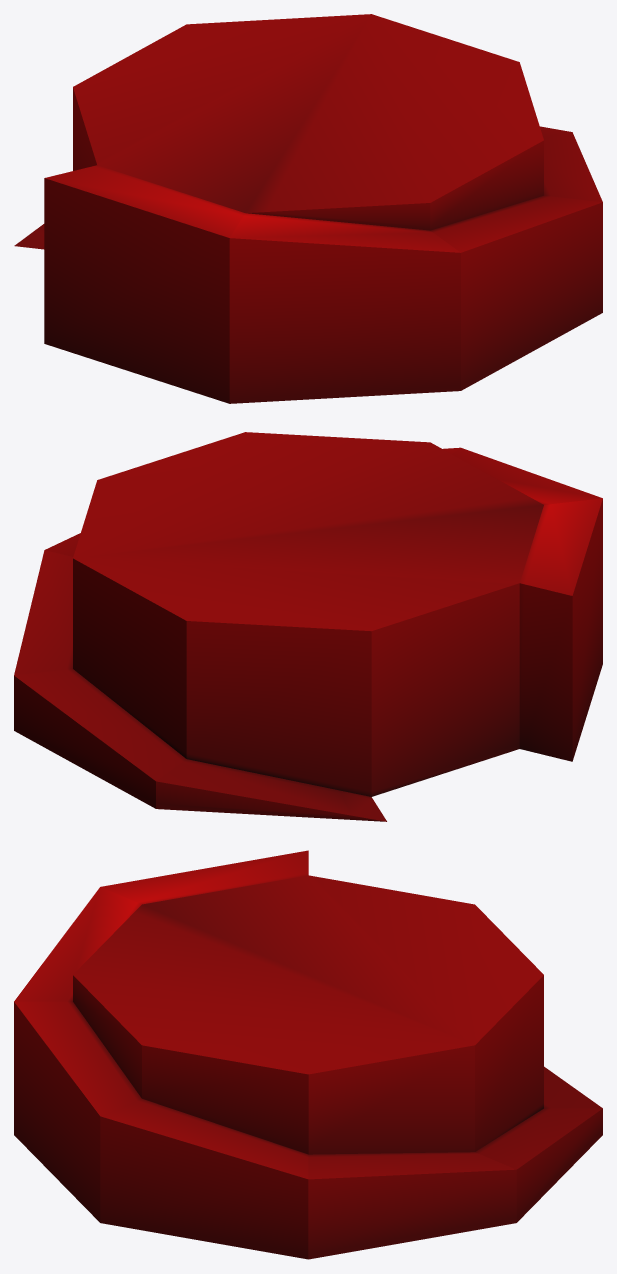
The model's file is dish_pedestal.obj.
The picture shows the model from 3 angles, top to bottom: view 1: azimuth 30°, elevation 25°; view 2: azimuth 150°, elevation 25°; view 3: azimuth 270°, elevation 25°; orthographic projection. The views are drawn at different scales.
Visible parts, largest first — view 1: WayUp, WayUp.001; view 2: WayUp.001, WayUp; view 3: WayUp.001, WayUp.
Boxes of the visible parts, x1,y1,x2,y2 form: WayUp: (14,126,602,403); WayUp.001: (73,14,543,230); WayUp.001: (73,432,543,796); WayUp: (14,447,602,821); WayUp.001: (73,875,543,1154); WayUp: (14,850,602,1259).
Size of the model in its own units: 10 by 3 by 10.
